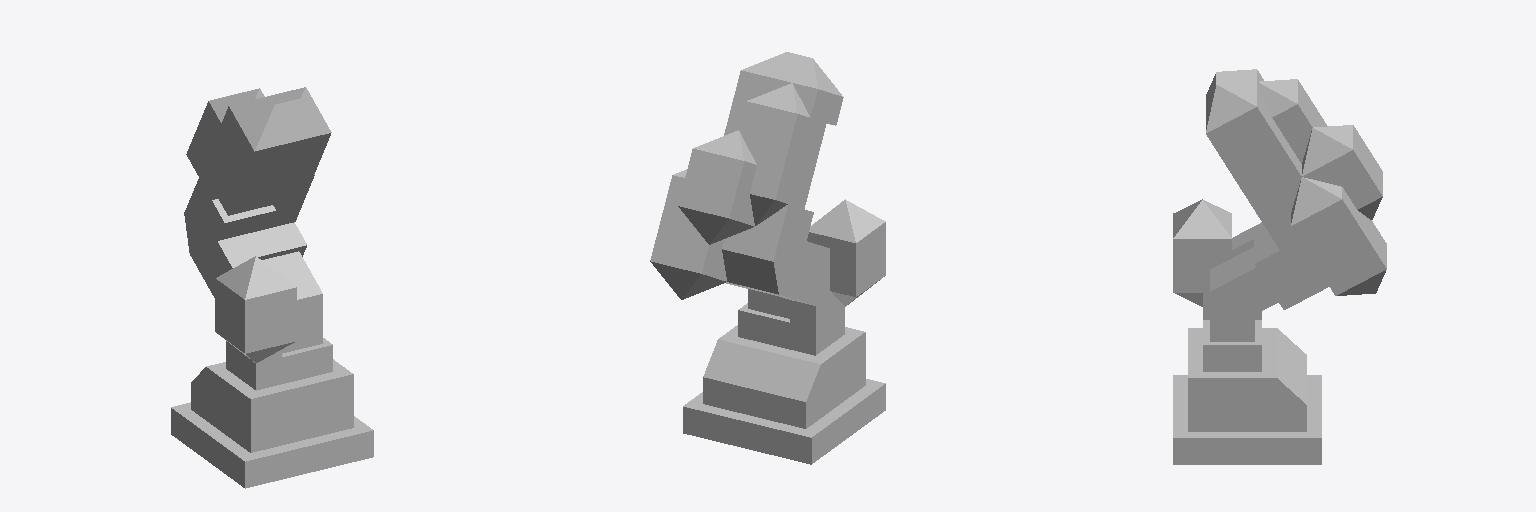
The model's file is leg_basic_l.obj.
3 renders of one model, left to right at view 1: azimuth 30°, elevation 25°; view 2: azimuth 150°, elevation 25°; view 3: azimuth 270°, elevation 25°, orthographic.
Parts seen in each view (by area): view 1: LEG_LEFT_BASIC_Cube.013, LEG_LEFT_DECO_DIAMOND_Cube.284; view 2: LEG_LEFT_BASIC_Cube.013, LEG_LEFT_DECO_DIAMOND_Cube.284; view 3: LEG_LEFT_BASIC_Cube.013, LEG_LEFT_DECO_DIAMOND_Cube.284.
Part boxes in pixels (left/top/right/bottom): LEG_LEFT_BASIC_Cube.013: left=171, top=87, right=373, bottom=488; LEG_LEFT_DECO_DIAMOND_Cube.284: left=186, top=88, right=314, bottom=362; LEG_LEFT_BASIC_Cube.013: left=683, top=52, right=885, bottom=464; LEG_LEFT_DECO_DIAMOND_Cube.284: left=650, top=83, right=885, bottom=306; LEG_LEFT_BASIC_Cube.013: left=1173, top=69, right=1328, bottom=464; LEG_LEFT_DECO_DIAMOND_Cube.284: left=1173, top=79, right=1386, bottom=306.
Size of the model in its own units: 0.3125 by 0.8246 by 0.4498.